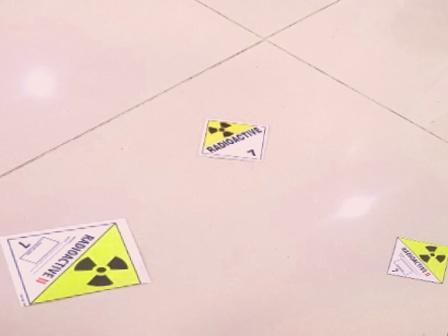radioactive: (1, 216, 150, 309), (195, 117, 270, 167), (383, 232, 448, 289)
